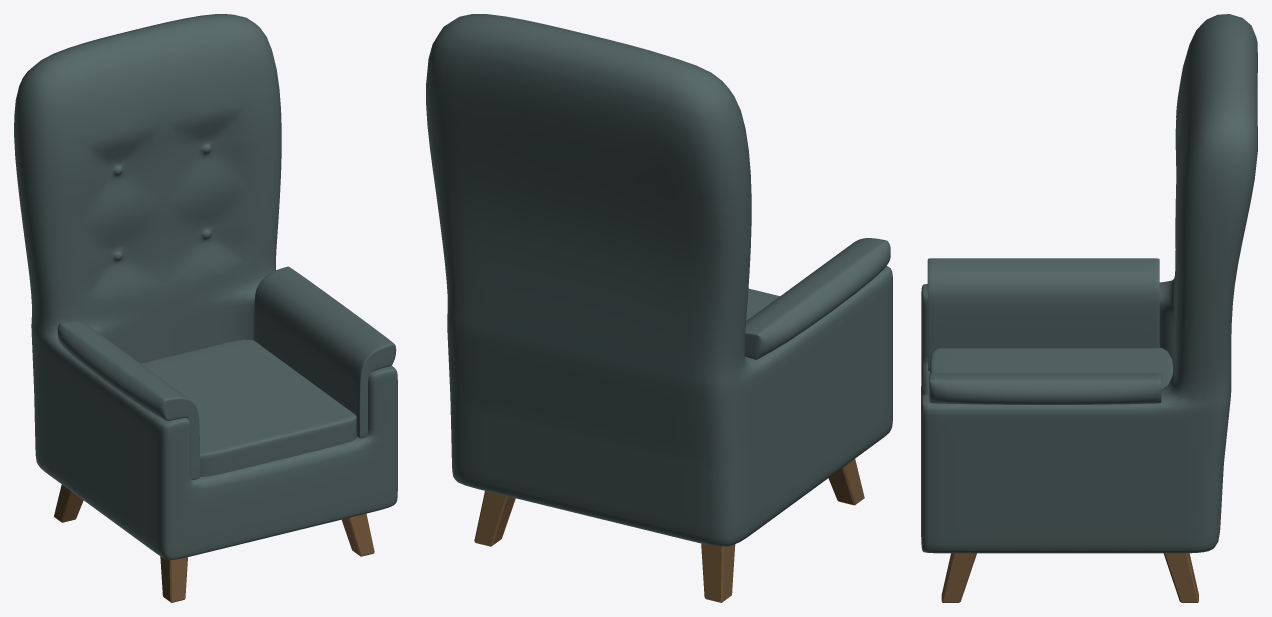
The model's file is CHAIR.glb.
The picture shows the model from 3 angles, left to right: view 1: azimuth 30°, elevation 25°; view 2: azimuth 150°, elevation 25°; view 3: azimuth 270°, elevation 25°; orthographic projection. The views are drawn at different scales.
Parts seen in each view (by area): view 1: Cube, Plane, Plane.001, Plane.002, Plane.003; view 2: Cube, Plane.002, Plane.003; view 3: Cube, Plane.002, Plane.001, Plane, Plane.003.
Part boxes in pixels (bbox=[...]): Cube: bbox=[14, 14, 397, 559]; Plane: bbox=[140, 339, 356, 476]; Plane.001: bbox=[253, 266, 396, 438]; Plane.002: bbox=[57, 321, 199, 479]; Plane.003: bbox=[54, 484, 374, 602]; Cube: bbox=[426, 14, 892, 546]; Plane.002: bbox=[744, 238, 890, 359]; Plane.003: bbox=[474, 459, 864, 602]; Cube: bbox=[921, 14, 1257, 553]; Plane.002: bbox=[927, 258, 1159, 370]; Plane.001: bbox=[929, 373, 1161, 404]; Plane: bbox=[930, 347, 1173, 388]; Plane.003: bbox=[941, 553, 1198, 602].
Size of the model in its own units: 2.15 by 3.64 by 2.26.
